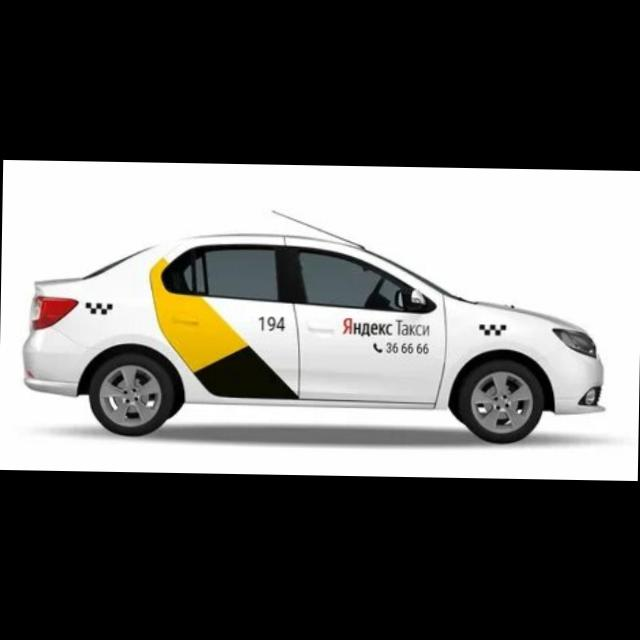taxi: (21, 209, 609, 447)
